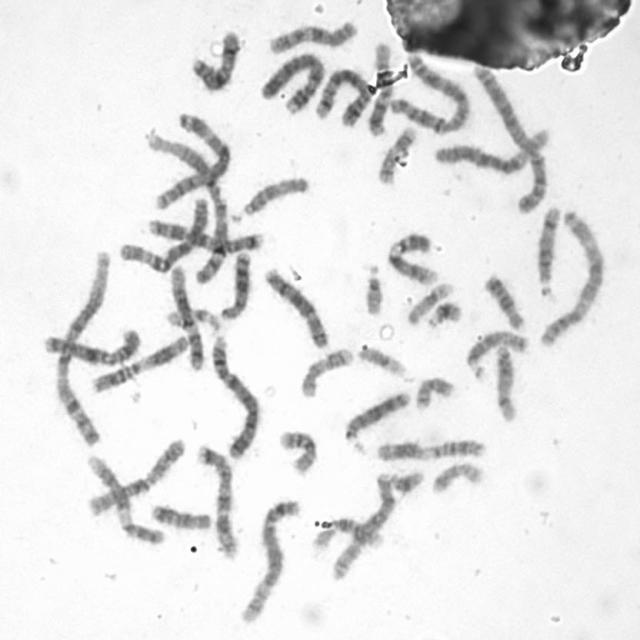A1: (141, 127, 234, 288), (49, 244, 113, 448)
A2: (470, 58, 552, 216), (384, 49, 472, 135)
A3: (534, 204, 608, 349), (150, 105, 235, 211)
B4: (206, 329, 263, 461), (256, 46, 326, 116)
B5: (234, 492, 303, 626), (311, 62, 374, 126)
C10: (83, 432, 188, 518), (264, 14, 359, 56)
C11: (86, 328, 192, 395), (371, 432, 489, 463)
C12: (166, 259, 208, 372), (364, 36, 394, 137)
C6: (115, 190, 212, 275), (429, 121, 553, 175)
C7: (190, 437, 242, 561), (142, 213, 266, 255)
C8: (326, 468, 398, 582), (258, 261, 332, 350)
C9: (81, 449, 167, 547), (382, 226, 441, 288)
D13: (340, 384, 412, 444), (215, 246, 254, 322)
D14: (532, 200, 563, 298), (489, 337, 521, 423)
D15: (460, 324, 531, 381), (234, 170, 310, 220)
E16: (308, 512, 386, 552), (273, 423, 319, 477)
E17: (296, 341, 356, 400), (373, 121, 419, 187)
E18: (479, 268, 528, 332), (147, 498, 213, 532)
F19: (402, 276, 456, 326), (352, 340, 408, 378)
F20: (426, 456, 486, 496), (410, 370, 456, 412)
G21: (421, 294, 464, 330), (386, 463, 427, 496)
G22: (159, 306, 229, 338), (358, 256, 386, 316)
X: (38, 322, 144, 368), (185, 23, 242, 94)
